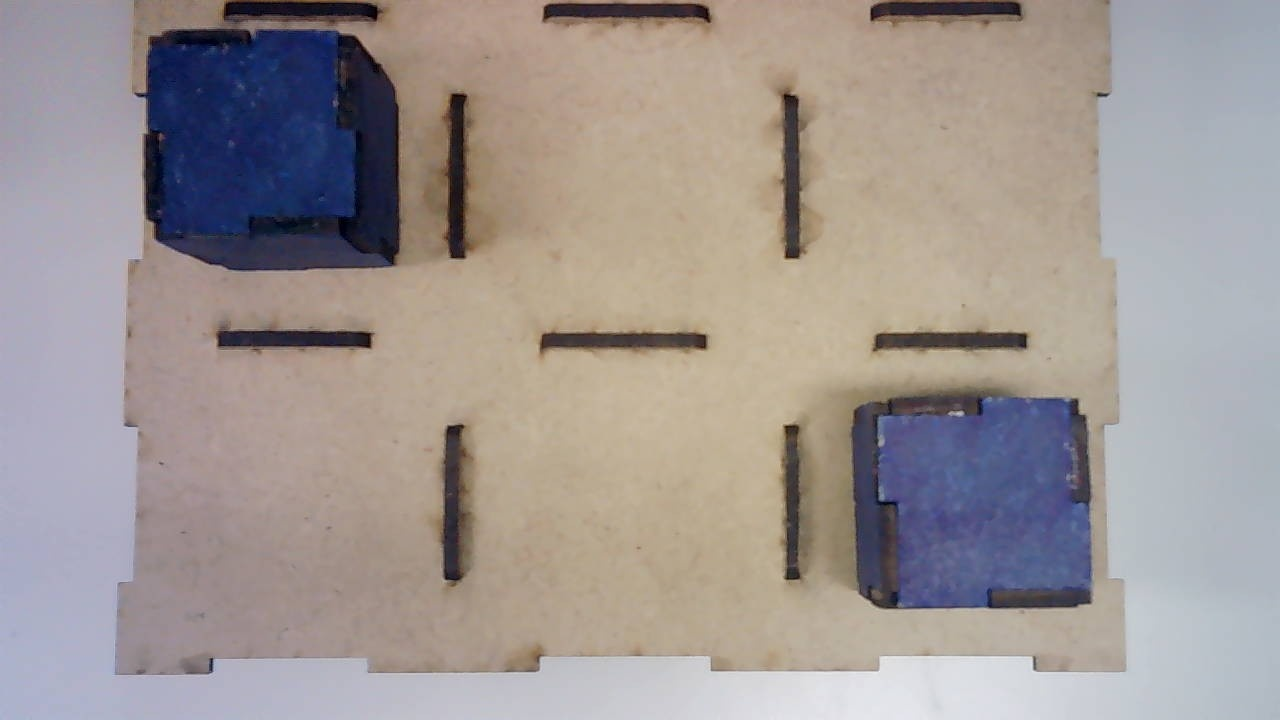blue box: (142, 29, 402, 268), (853, 393, 1092, 614)
